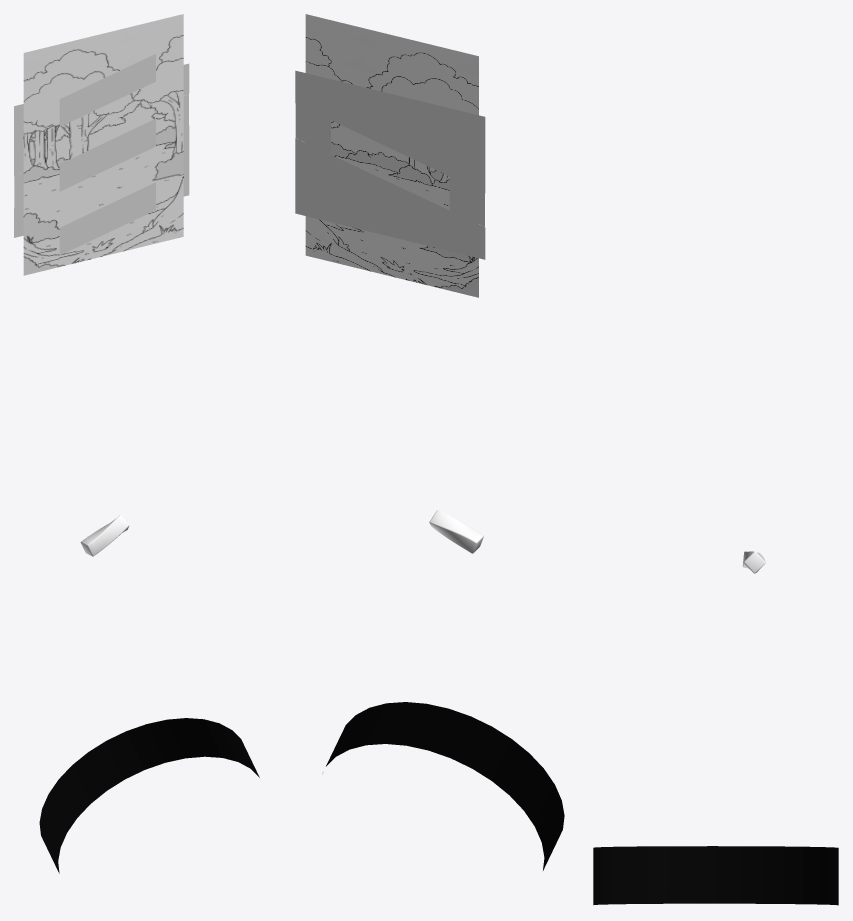
Rendered from section2.glb.
3 renders of one model, left to right at view 1: azimuth 30°, elevation 25°; view 2: azimuth 150°, elevation 25°; view 3: azimuth 270°, elevation 25°, orthographic. The views are drawn at different scales.
Parts seen in each view (by area): view 1: text01, Flexible, Background, TitleContainer; view 2: Flexible, text01, Background, TitleContainer; view 3: Background.
Part boxes in pixels (x1=…): text01: x1=23, y1=14, x2=183, y2=275; Flexible: x1=14, y1=54, x2=189, y2=255; Background: x1=39, y1=718, x2=259, y2=873; TitleContainer: x1=80, y1=514, x2=129, y2=556; Flexible: x1=295, y1=70, x2=485, y2=259; text01: x1=305, y1=14, x2=478, y2=297; Background: x1=326, y1=702, x2=564, y2=870; TitleContainer: x1=429, y1=510, x2=483, y2=553; Background: x1=593, y1=846, x2=838, y2=905.
Size of the model in its own units: 24.79 by 98.13 by 24.59.
6 materials, 2 textured.
